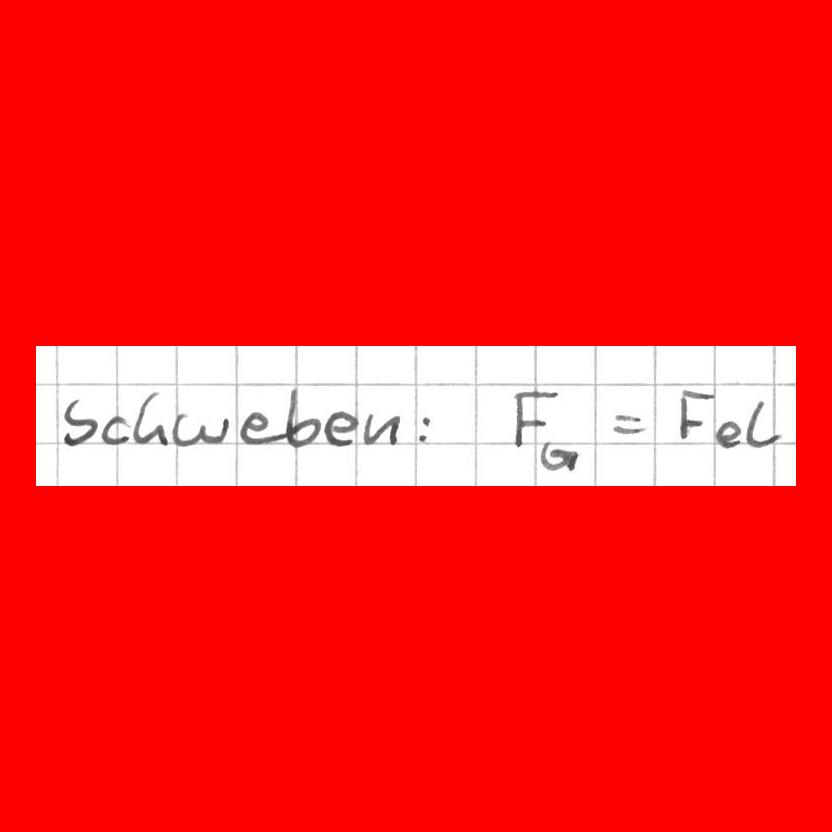Char: (503, 387, 561, 446), (673, 385, 714, 443), (169, 412, 230, 448), (285, 387, 321, 447), (131, 390, 168, 445), (61, 396, 99, 447), (745, 399, 782, 448), (239, 409, 284, 447), (321, 407, 361, 449), (536, 438, 580, 474), (362, 411, 405, 447), (610, 409, 652, 439), (101, 414, 132, 446), (713, 418, 743, 448), (414, 413, 435, 446)
